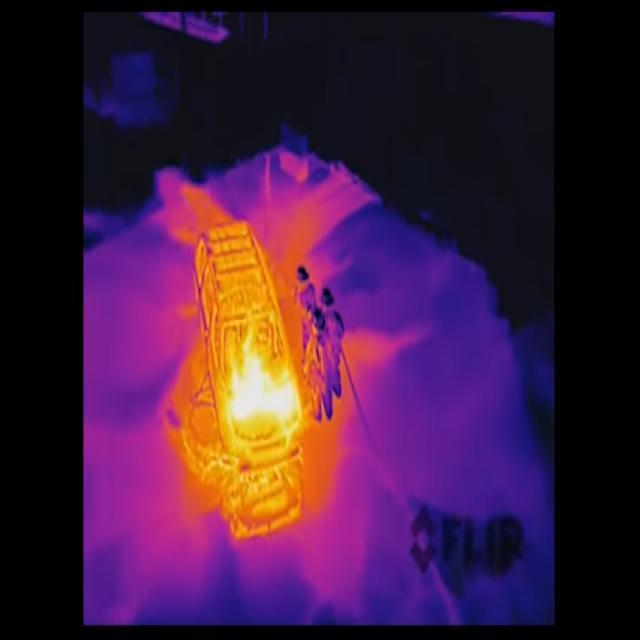fire: (222, 332, 305, 433)
